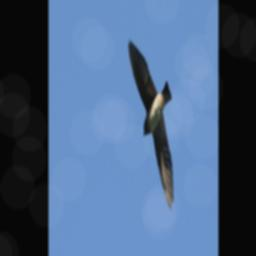Swallow: (130, 37, 175, 211)
